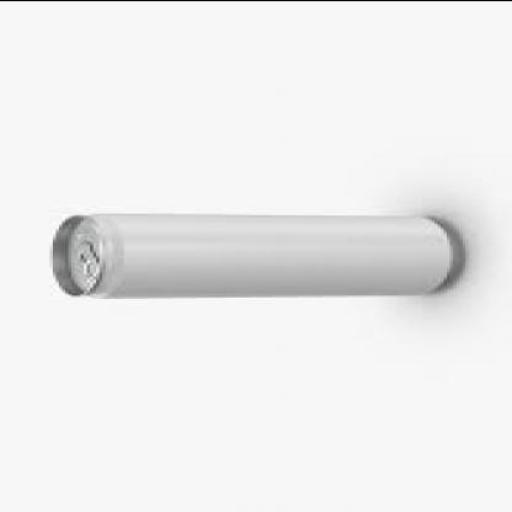metal: (46, 214, 460, 298)
